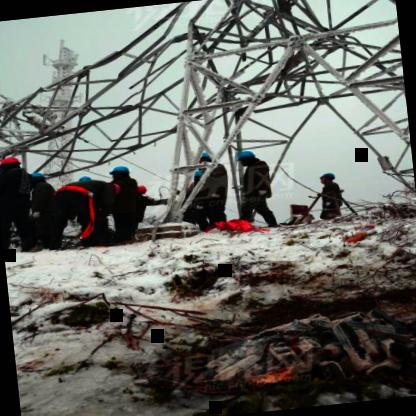helmet: (232, 148, 257, 170), (0, 153, 22, 176), (106, 164, 132, 182), (24, 168, 46, 186), (316, 172, 336, 185)
